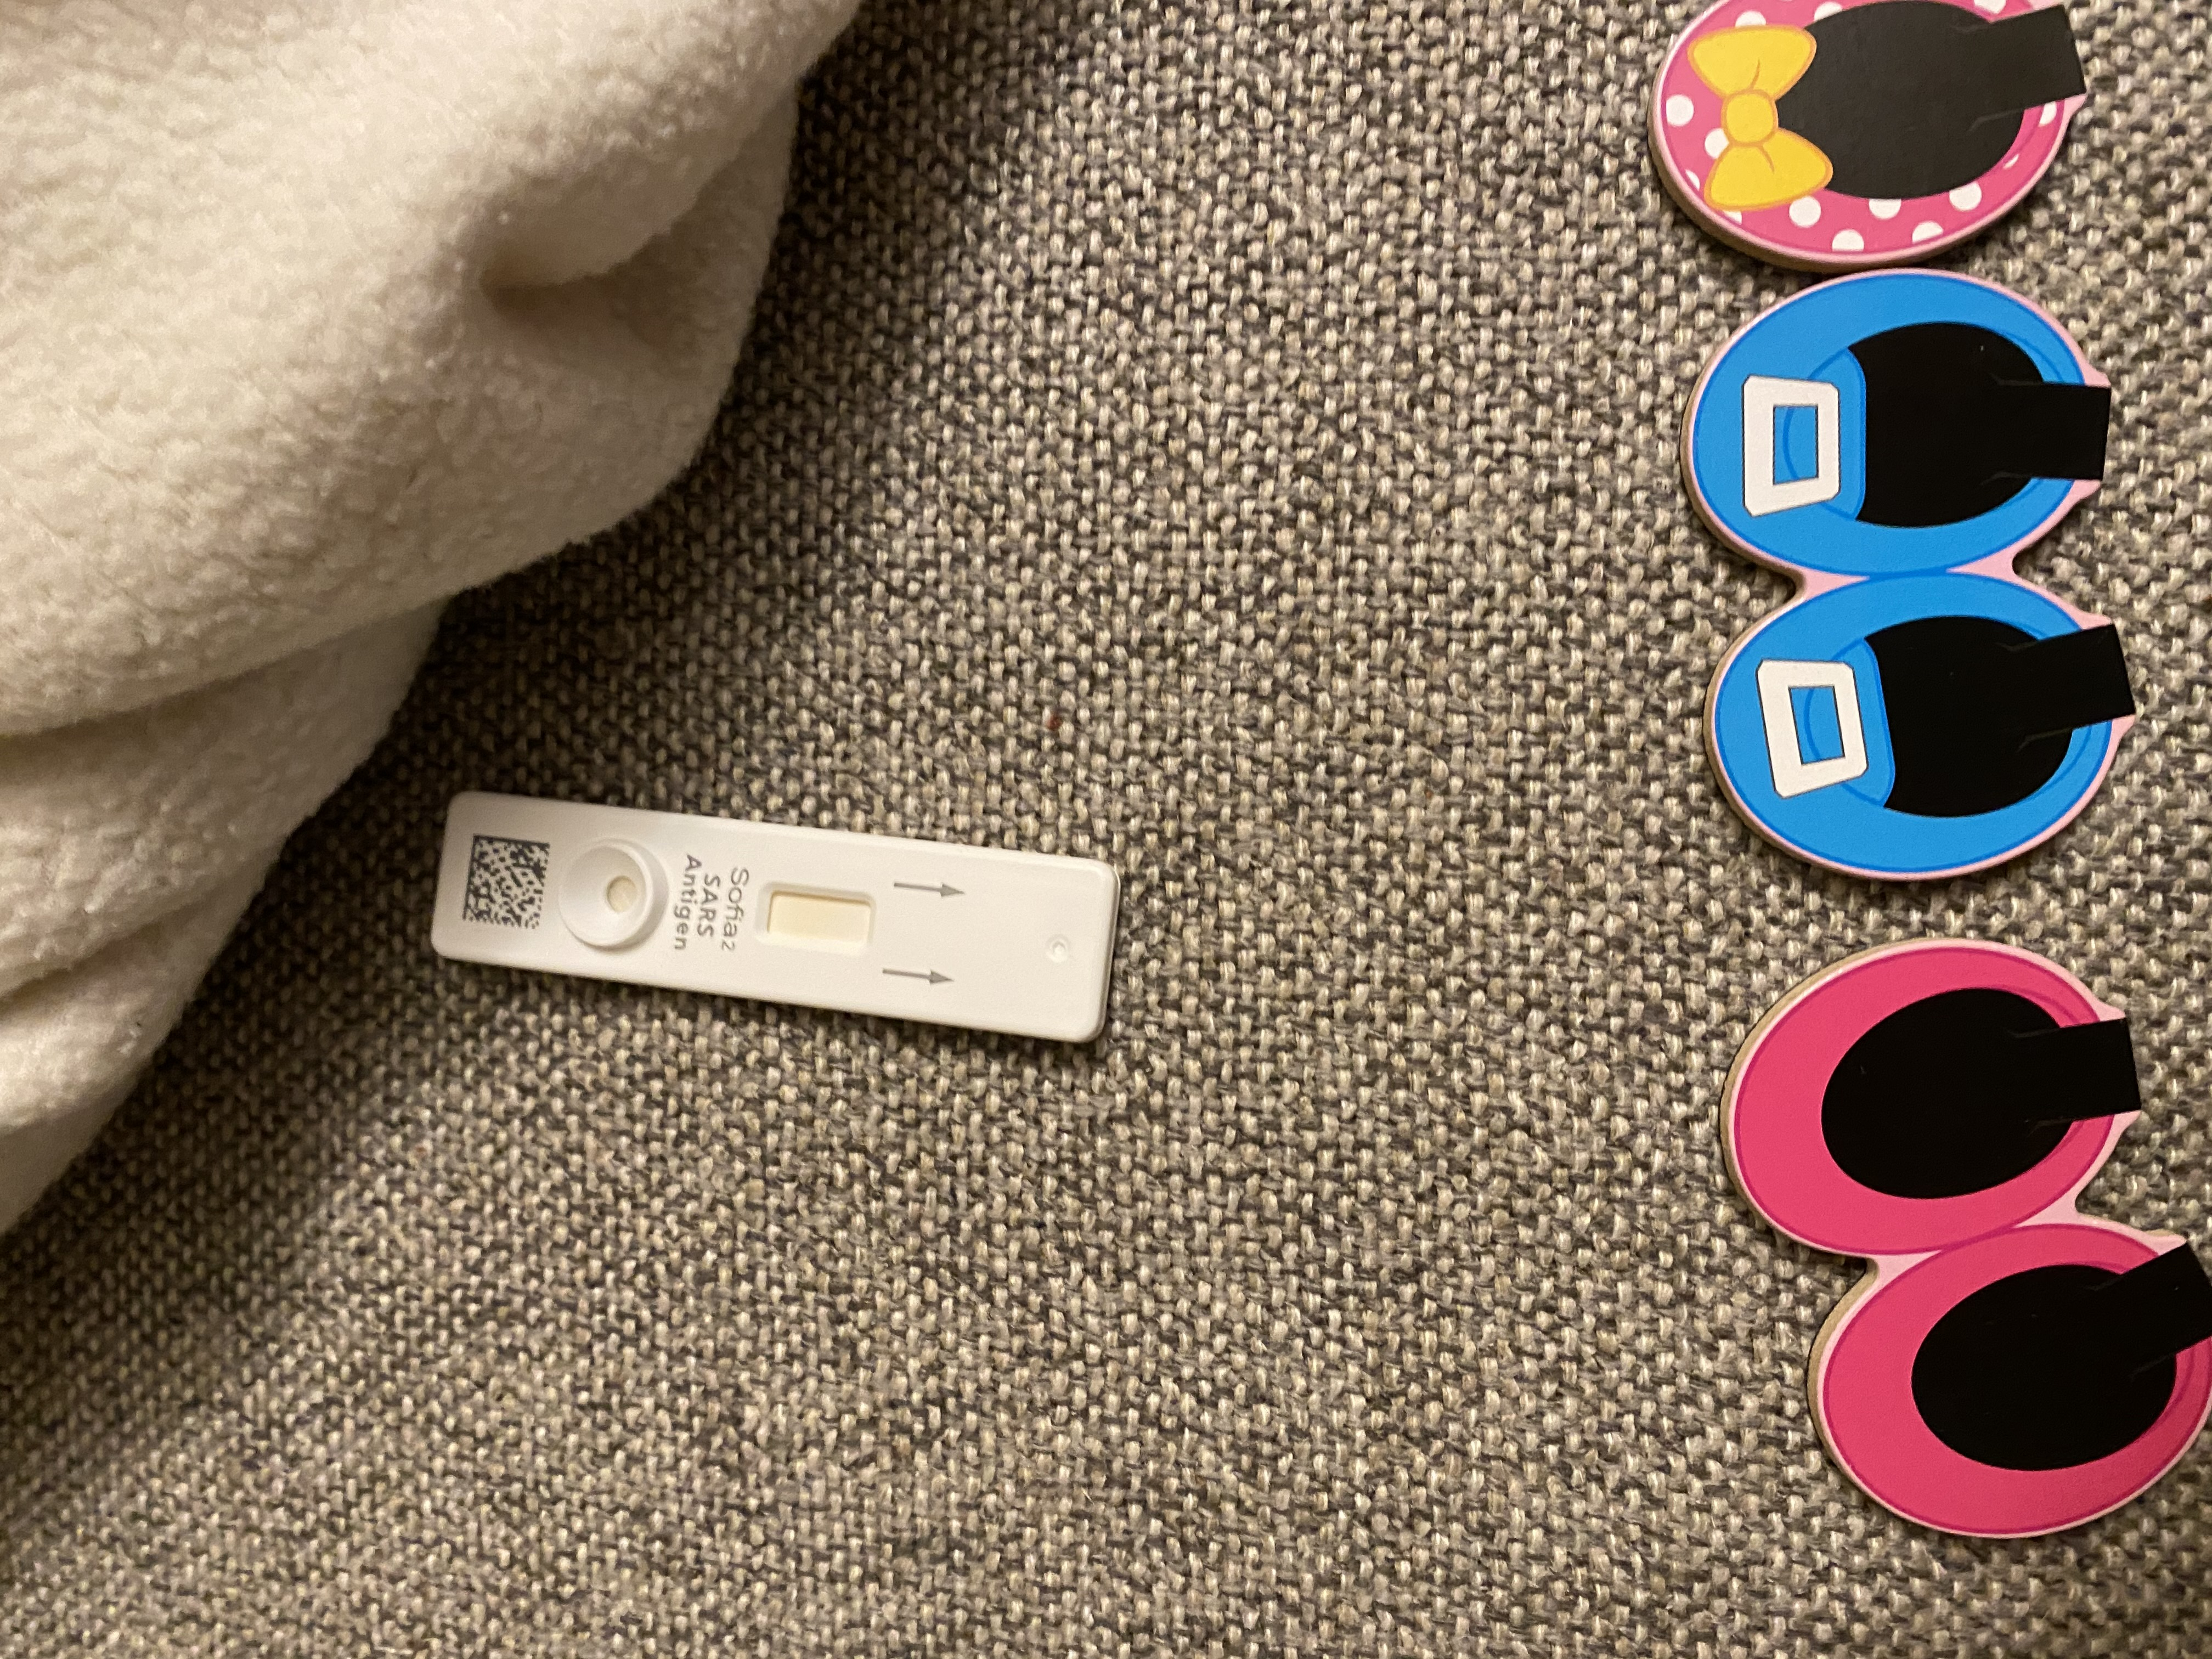quidel: (427, 772, 1130, 1054)
